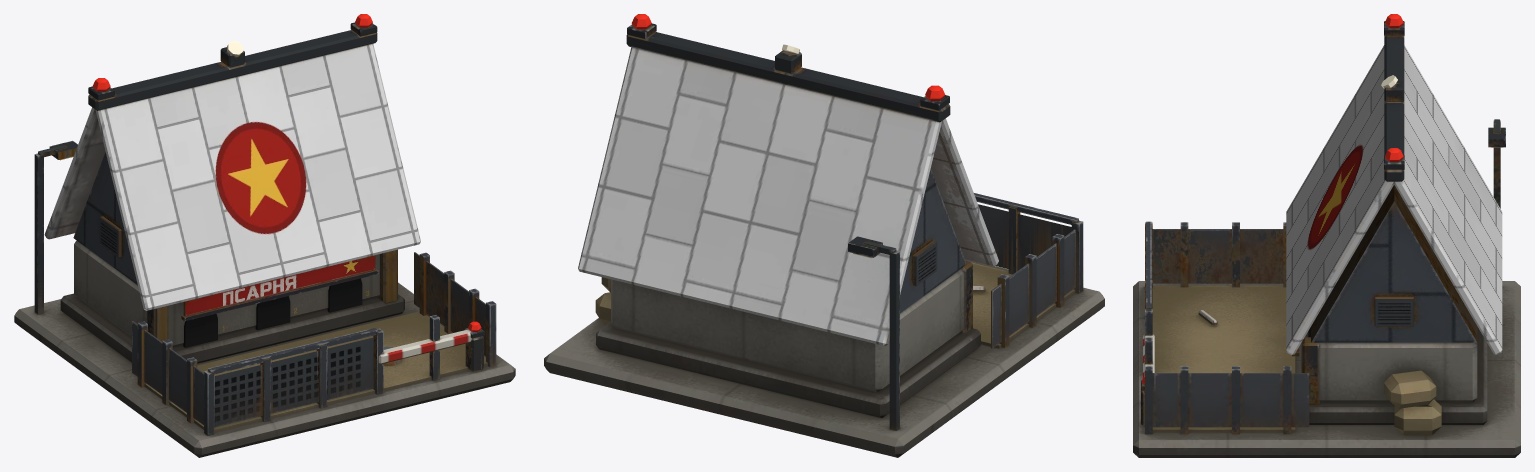
File: kenn.soviet.glb
3 views of the same model, side by side, from view 1: azimuth 30°, elevation 25°; view 2: azimuth 150°, elevation 25°; view 3: azimuth 270°, elevation 25° (orthographic). The views are drawn at different scales.
Parts seen in each view (by area): view 1: root_mesh; view 2: root_mesh; view 3: root_mesh.
Boxes of the visible parts, x1,y1,x2,y2 form: root_mesh: (14,14,515,457); root_mesh: (544,14,1104,457); root_mesh: (1133,14,1520,457).
Bounding box in the file's own units: 0.98 × 0.8424 × 0.98.
1 material, 1 textured.
